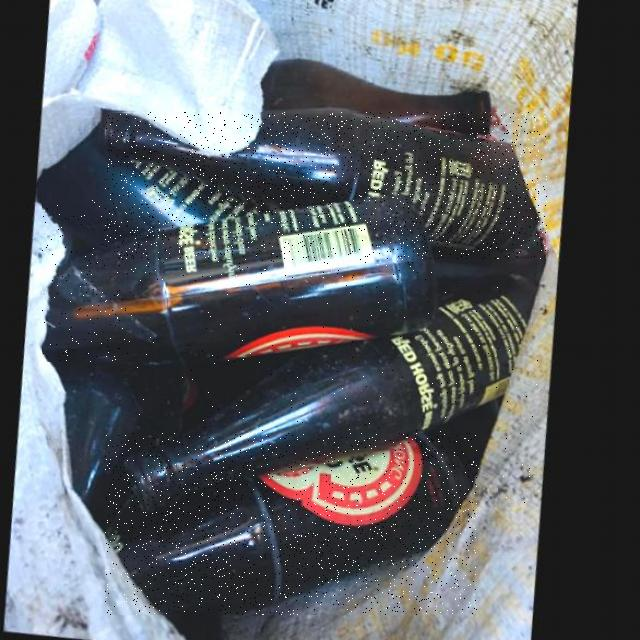glass: (128, 281, 540, 506), (106, 433, 477, 614), (43, 200, 442, 362), (106, 112, 547, 258)
